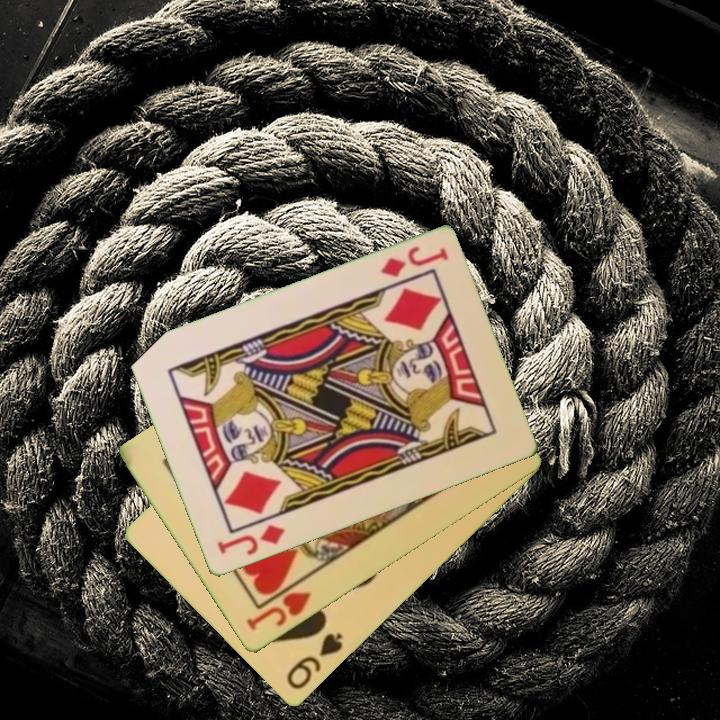9s: (282, 629, 346, 694)
Jd: (213, 521, 288, 559), (376, 243, 451, 281)
Jh: (242, 588, 314, 634)
